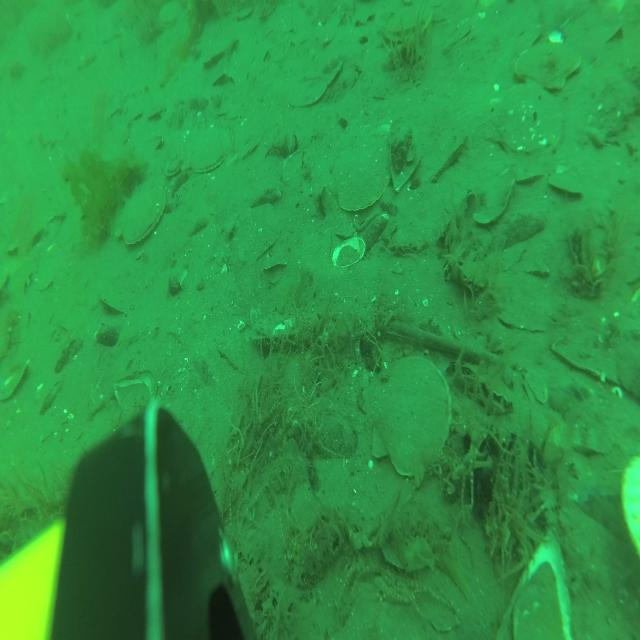scallop: (368, 359, 455, 484), (493, 79, 565, 165), (513, 36, 582, 99), (333, 152, 389, 212), (122, 180, 165, 252), (470, 164, 514, 225), (429, 127, 471, 183), (183, 123, 229, 174), (386, 6, 434, 45), (201, 27, 236, 70), (547, 169, 583, 206), (288, 76, 326, 110), (165, 149, 184, 185), (157, 1, 180, 26)
